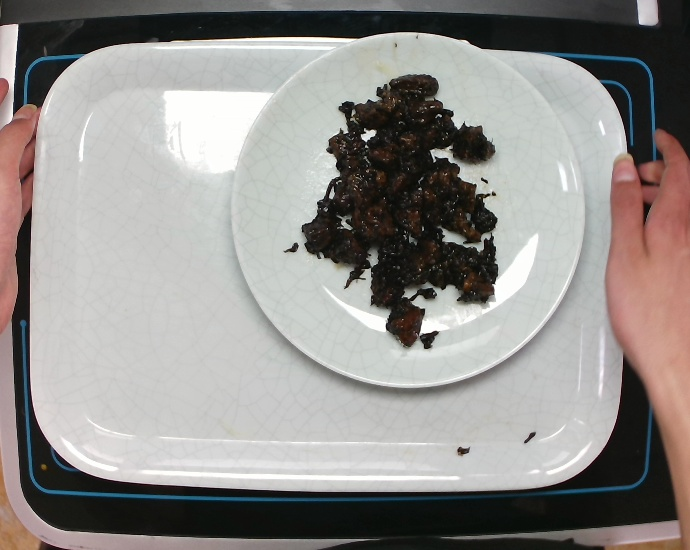JYsf-Da_Yuan_Pan: (228, 30, 587, 390)
